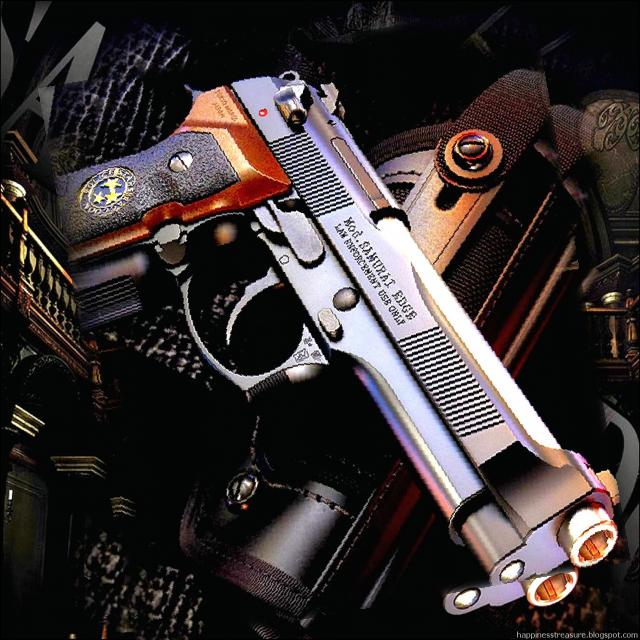gun: (61, 20, 608, 629)
